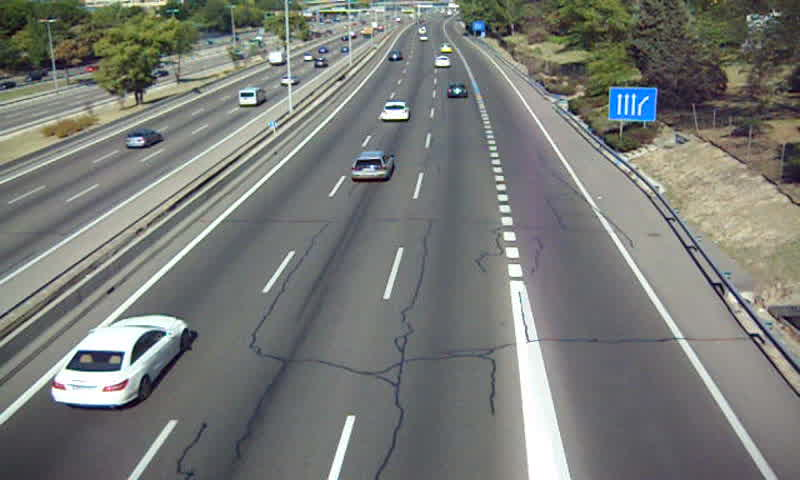car: (50, 316, 190, 407), (352, 151, 394, 180), (379, 101, 411, 122), (446, 83, 466, 100)
